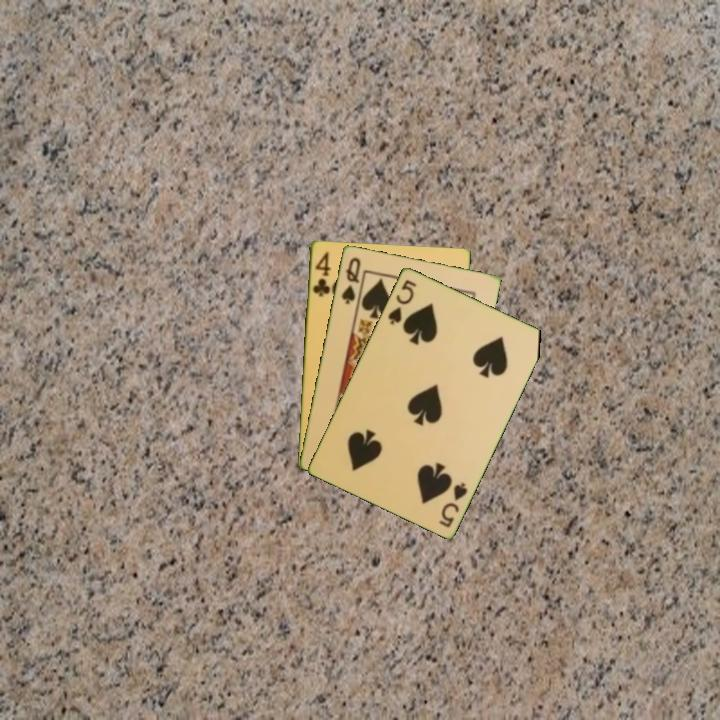4c: (309, 248, 333, 299)
5s: (384, 276, 419, 328), (435, 479, 470, 530)
Qs: (338, 253, 363, 307)
